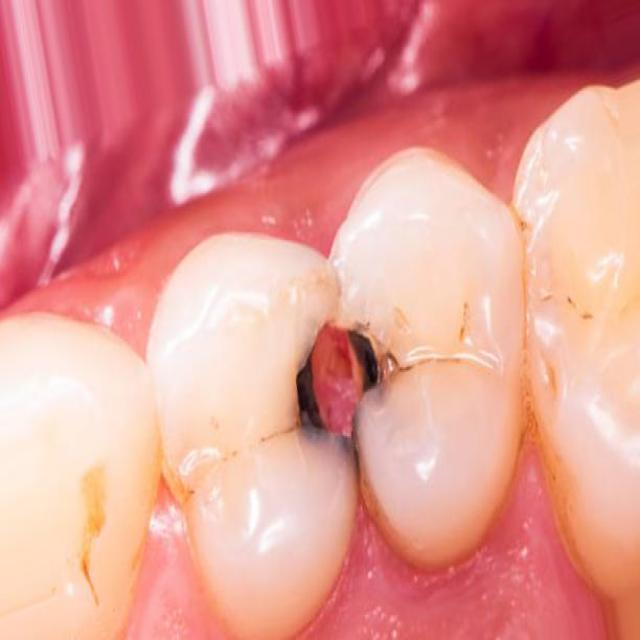caries: (265, 274, 420, 487), (46, 442, 132, 610)
